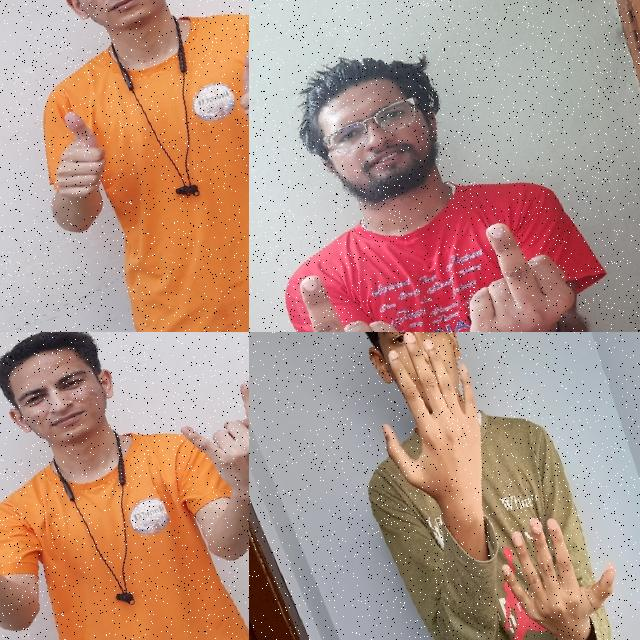Corna: (163, 370, 249, 529)
Middle Finger: (429, 196, 590, 332), (249, 246, 435, 332)
Moutza: (352, 332, 533, 550)
Thumbs Up: (26, 99, 130, 216), (216, 30, 249, 152)
